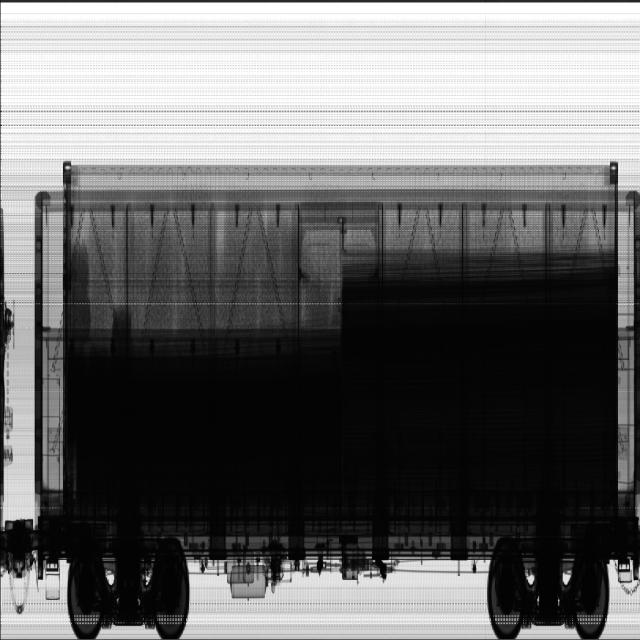clothes: (69, 243, 90, 345), (110, 308, 131, 353)
